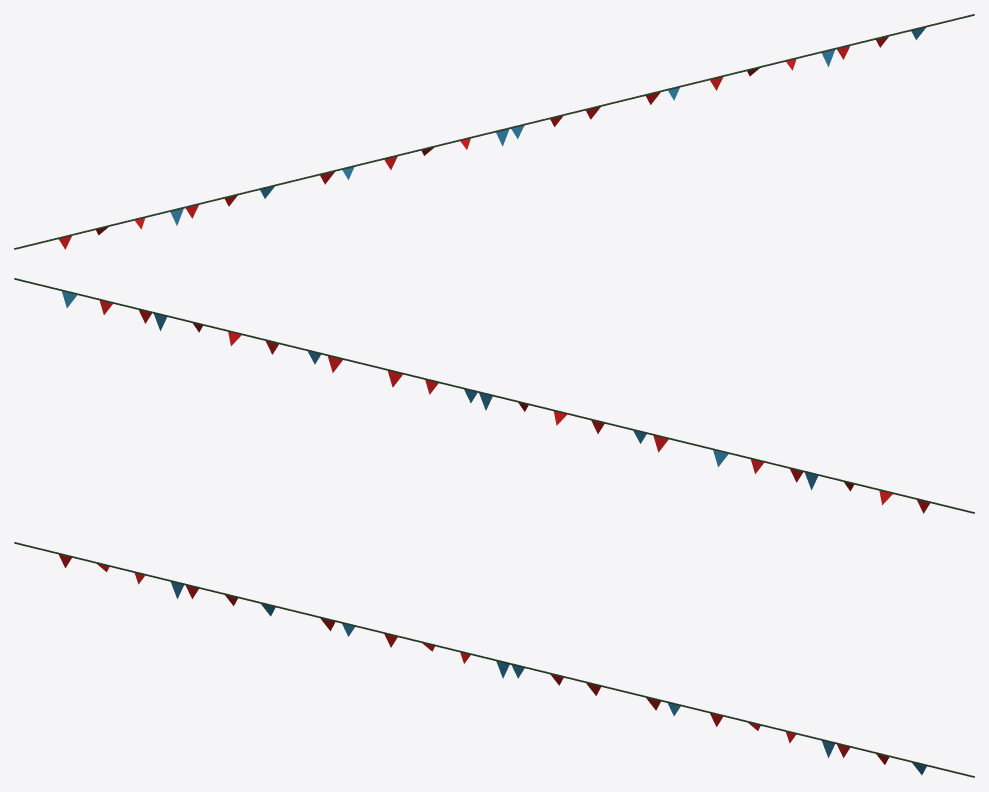
File: SM_rope_stripes_03.fbx
3 renders of one model, top to bottom at view 1: azimuth 30°, elevation 25°; view 2: azimuth 150°, elevation 25°; view 3: azimuth 330°, elevation 25°, orthographic.
Visible parts, largest first — view 1: Line031; view 2: Line031; view 3: Line031.
Part boxes in pixels (x1=…): Line031: x1=14, y1=14, x2=974, y2=249; Line031: x1=14, y1=278, x2=974, y2=513; Line031: x1=14, y1=542, x2=974, y2=777.
Bounding box in the file's own units: 1004 × 9.95 × 17.51.
